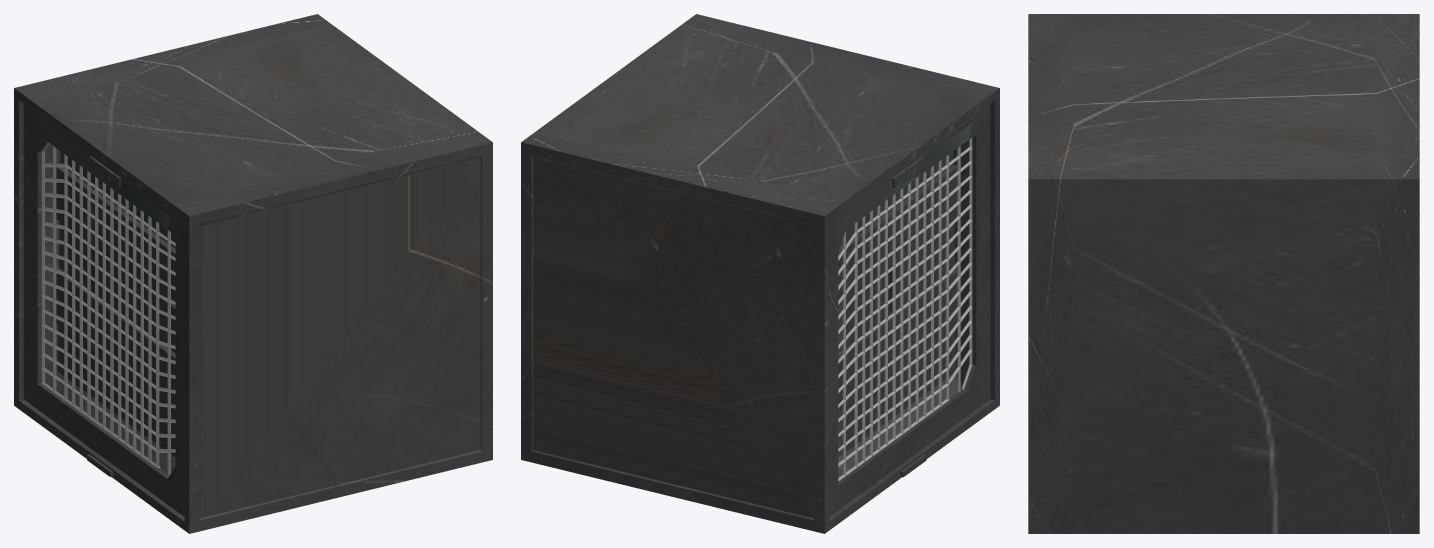
Rendered from Cajita.fbx.
The picture shows the model from 3 angles, left to right: view 1: azimuth 30°, elevation 25°; view 2: azimuth 150°, elevation 25°; view 3: azimuth 270°, elevation 25°; orthographic projection. The views are drawn at different scales.
Parts seen in each view (by area): view 1: Cube.019; view 2: Cube.019; view 3: Cube.019.
Boxes of the visible parts, box(x1,y1,x2,y2) form: Cube.019: box(14, 14, 492, 533); Cube.019: box(521, 14, 999, 533); Cube.019: box(1028, 14, 1419, 533).
Bounding box in the file's own units: 202 × 200 × 200.
2 materials, 1 textured.
